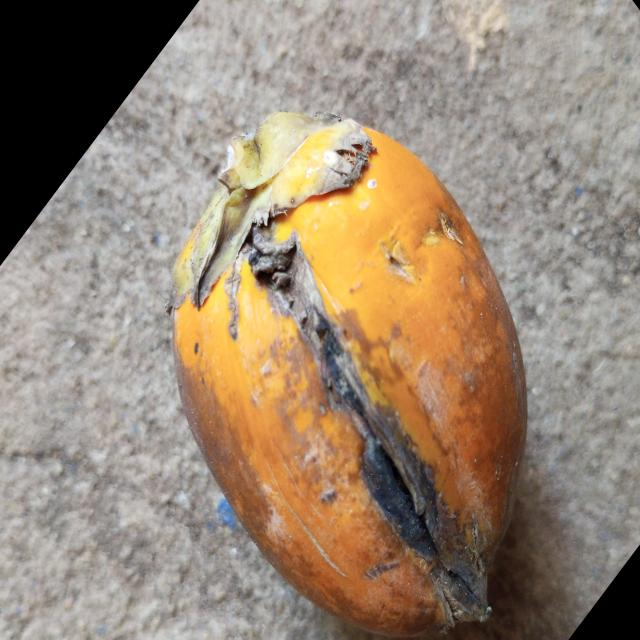damaged: (168, 112, 527, 636)
